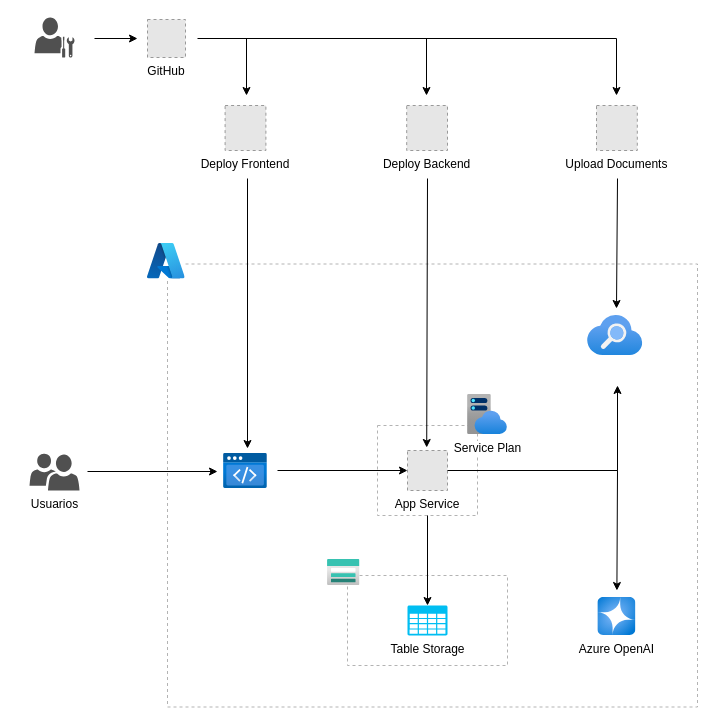
This 715x724 diagram has some shape labels left out. Grey dashed boxes stand in for pictures. The shapes that lost their labels are listed below. From the top down, each one's centre as x and y in pixels, then its label:
point (54, 37): Administrador
point (166, 260): Microsoft Azure
point (614, 335): AI Search
point (245, 470): Static Web App
point (343, 572): Storage Account
